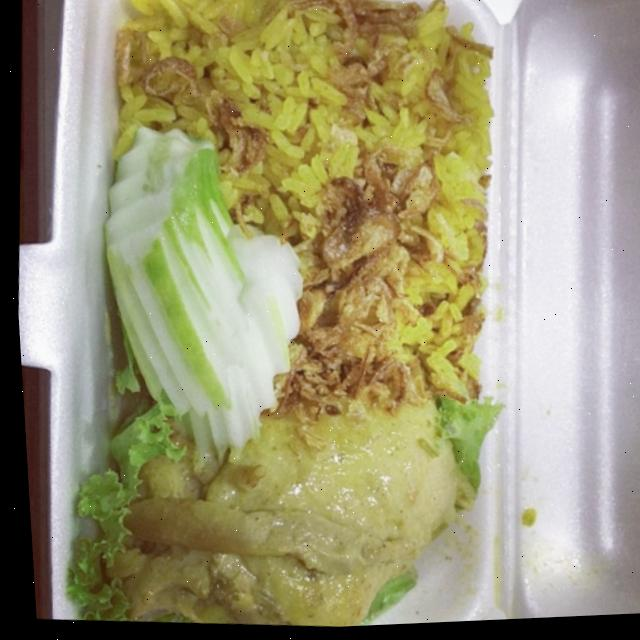米饭主食: (15, 0, 613, 639)
